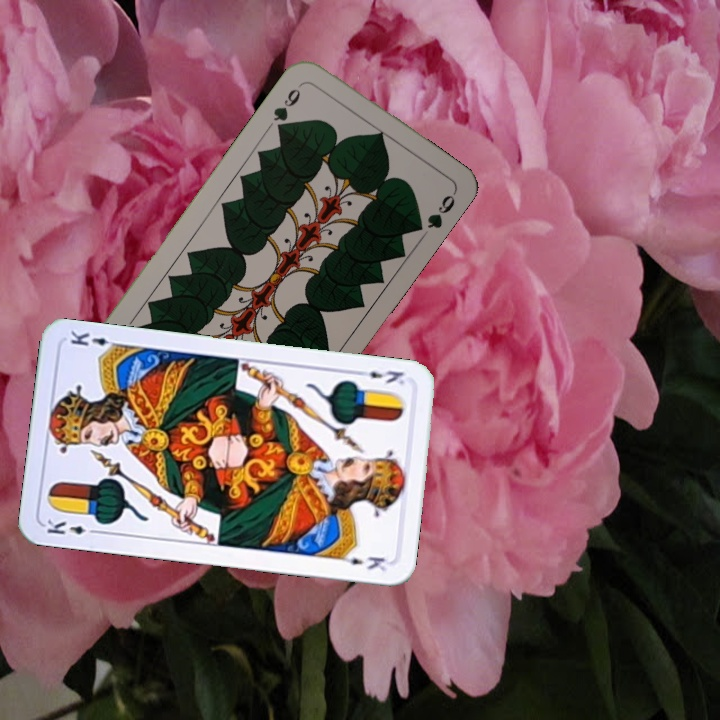EK: (43, 516, 101, 537), (353, 366, 407, 387)
G9: (269, 84, 304, 135)
